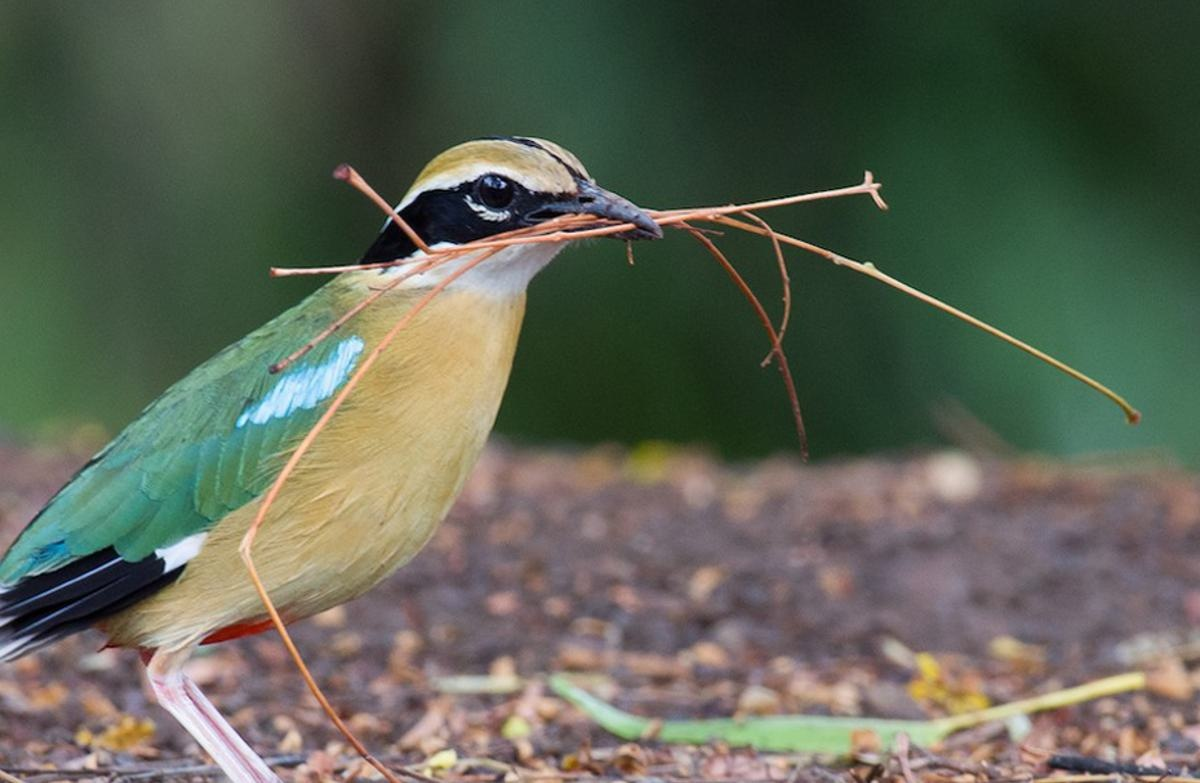pitta: (1, 98, 691, 778)
